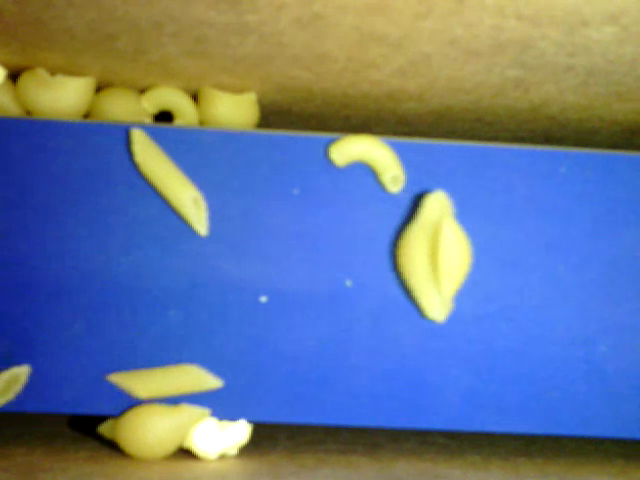elbow: (328, 135, 407, 198), (142, 82, 198, 126)
penne: (129, 126, 209, 235), (105, 363, 229, 403), (1, 361, 34, 403)
shell: (393, 187, 476, 323), (95, 401, 214, 460), (15, 66, 96, 120), (196, 80, 262, 130), (89, 87, 153, 124)
